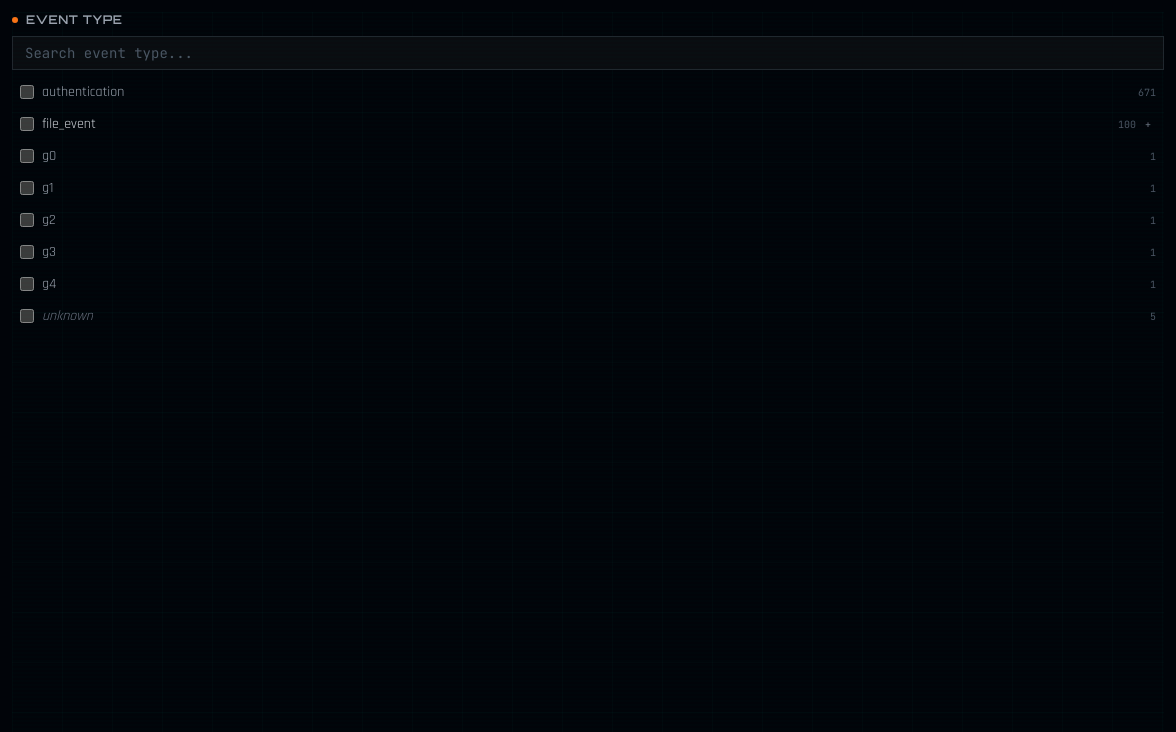
Test case: GroupedFacet › search matches children and auto-expands their parent
Type "delete" into the field with placeholder "Search event type..." at (588, 53), box [12,36,1164,70]
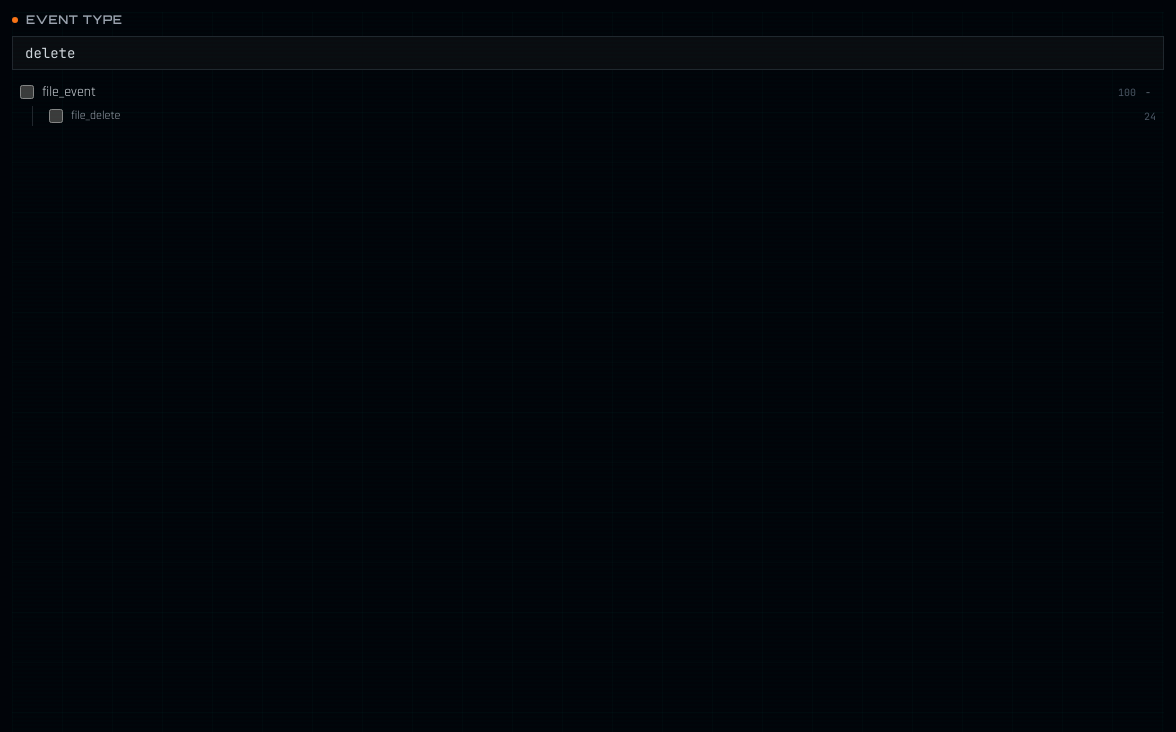
Now the text "file_delete" is shown, box [71,108,120,124]
Now the text "authentication" is gone
